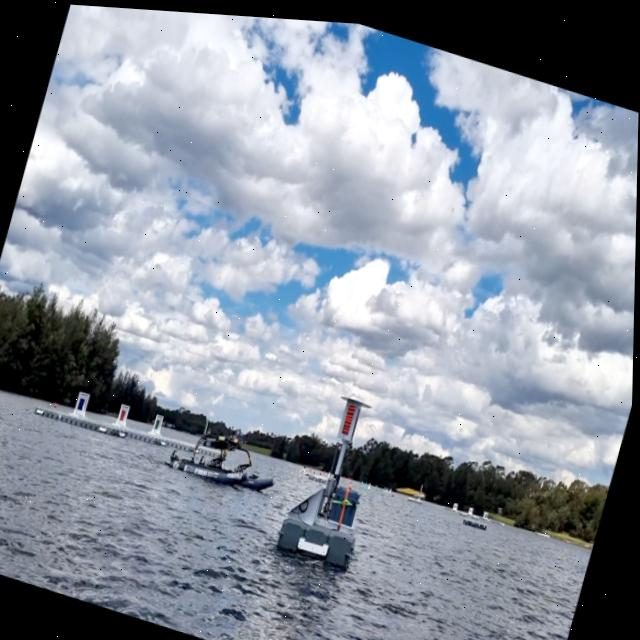led: (340, 396, 360, 435)
